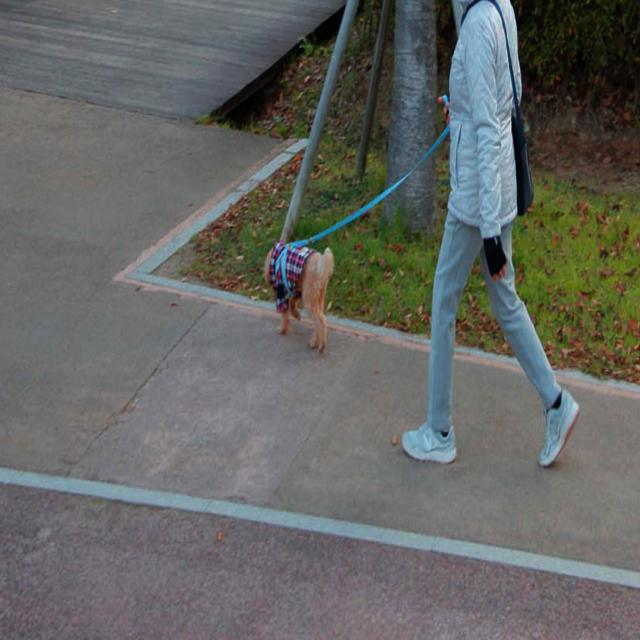Leashed_Dog: (264, 94, 457, 355)
